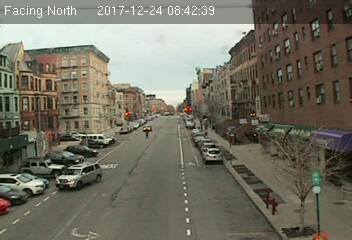car: (56, 161, 101, 190), (202, 147, 222, 163)
